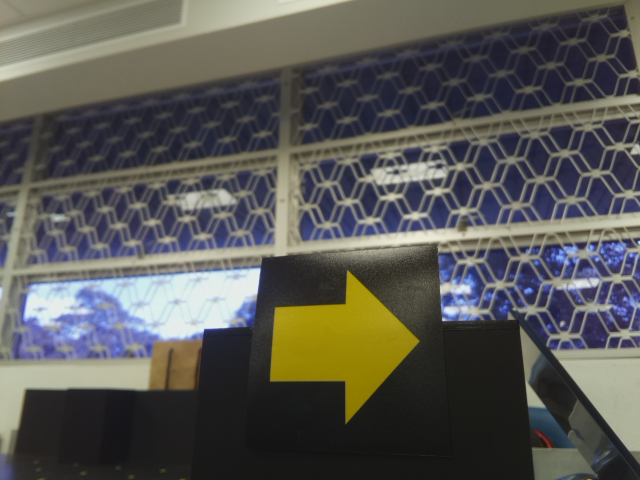right: (270, 265, 424, 429)
